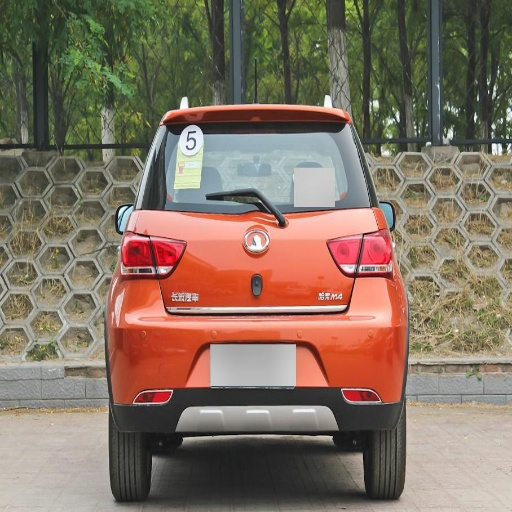back_bumper: (110, 277, 405, 431)
back_right_light: (357, 208, 393, 276)
trunk: (140, 209, 376, 378)
